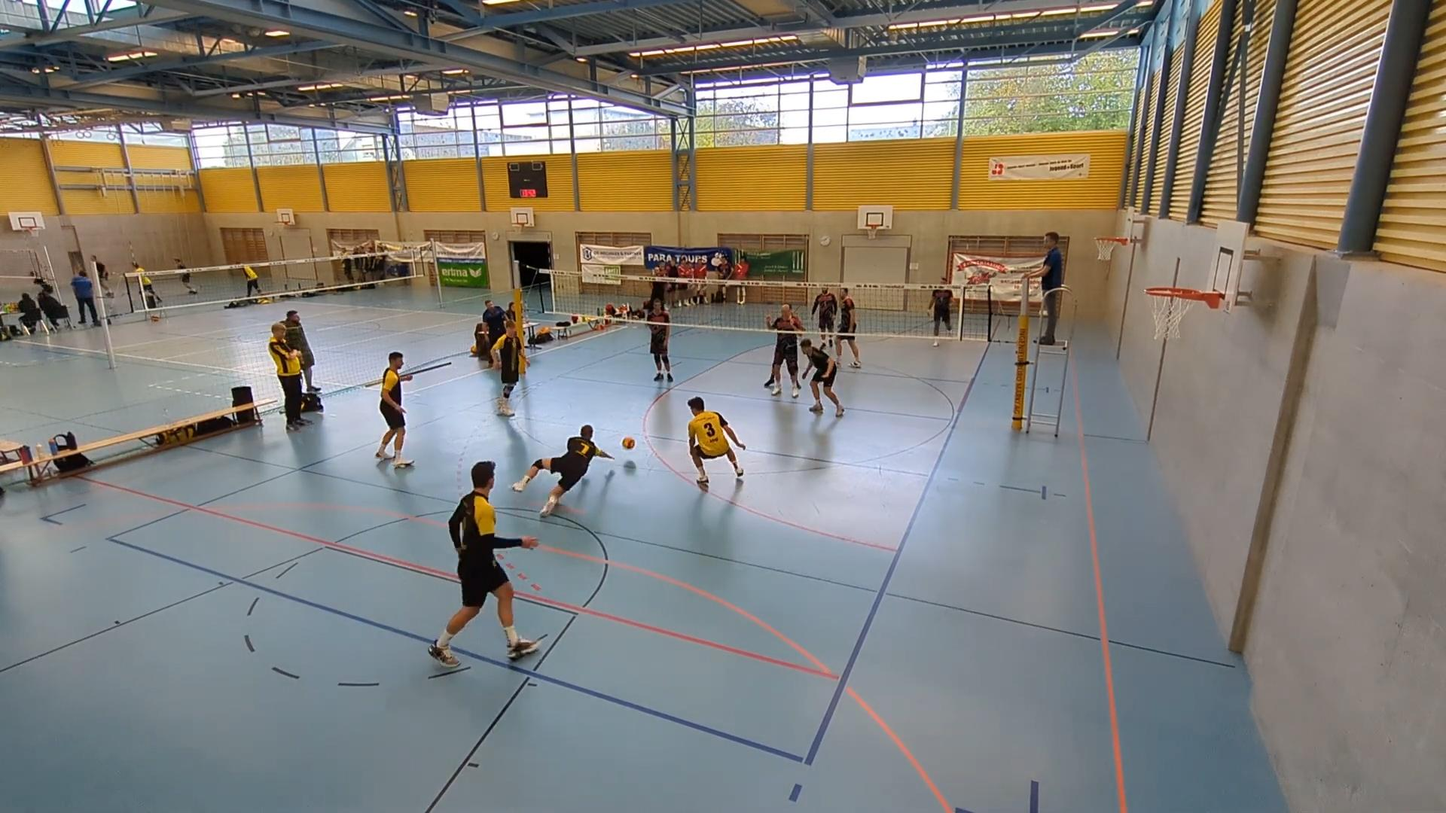Dig: (513, 406, 617, 521)
Player: (428, 461, 538, 666), (512, 425, 612, 516), (688, 396, 746, 484), (375, 352, 412, 468), (765, 303, 803, 397), (490, 320, 526, 416), (801, 339, 844, 416), (646, 300, 672, 381), (835, 289, 861, 367), (811, 288, 837, 346), (931, 285, 953, 346)
ball: (620, 433, 637, 450)
